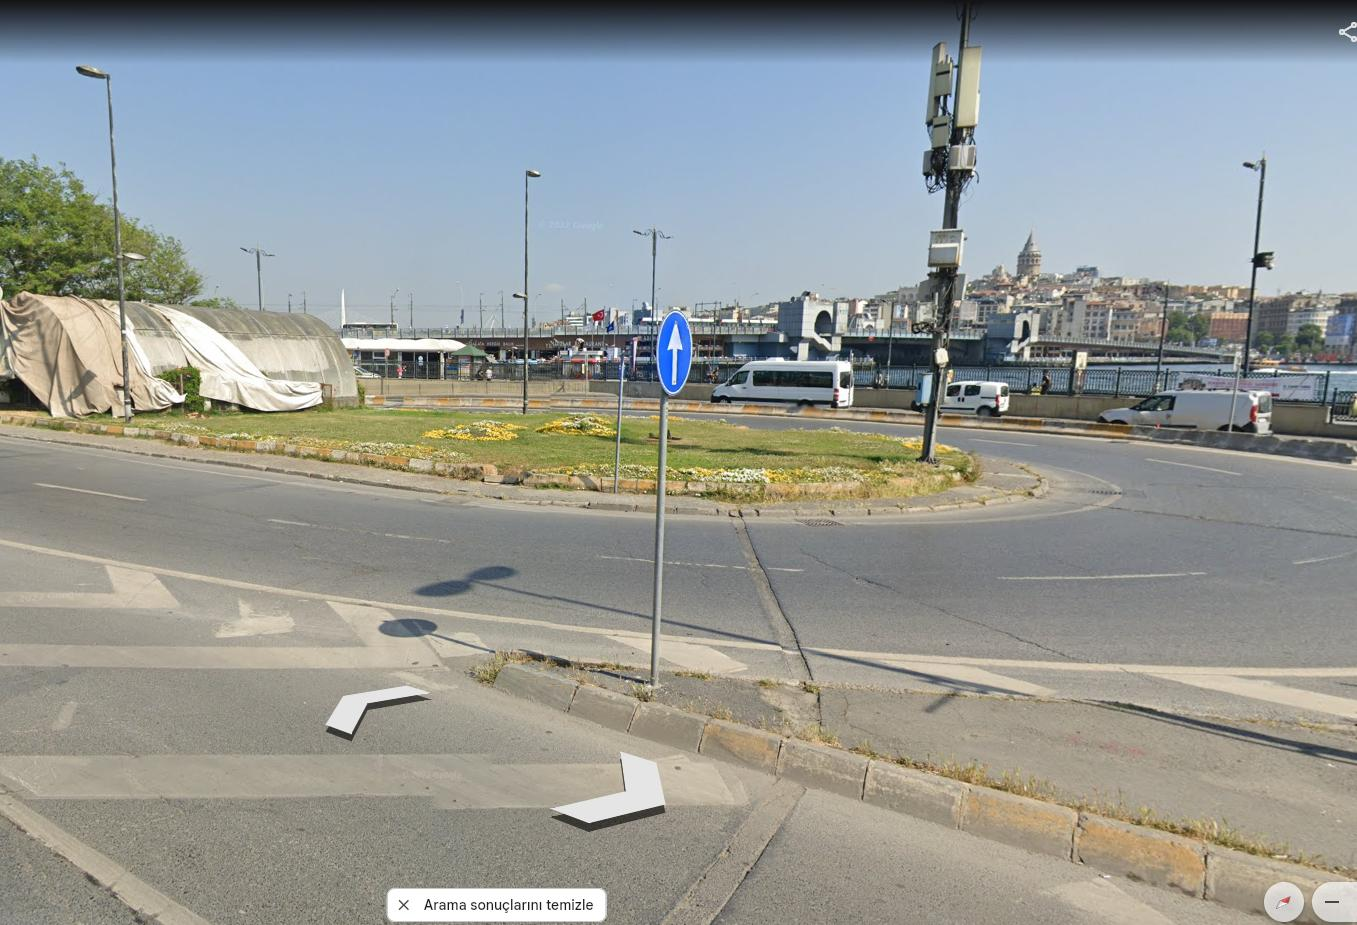forward: (658, 313, 695, 395)
